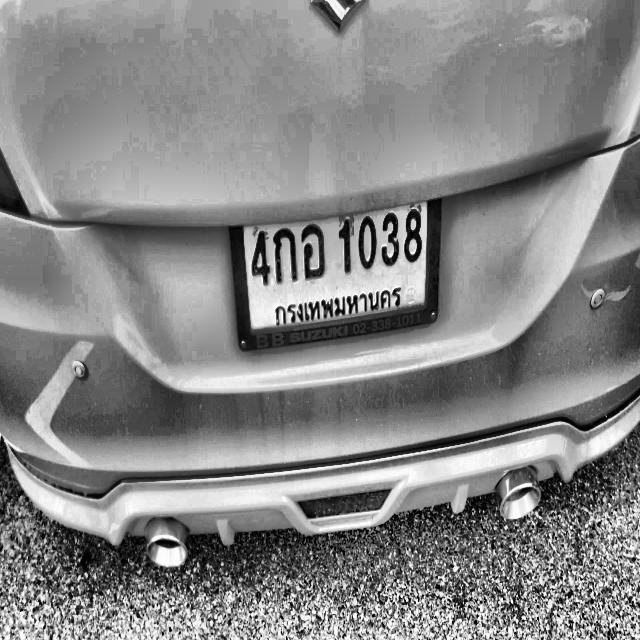license-plate: (227, 188, 446, 355)
